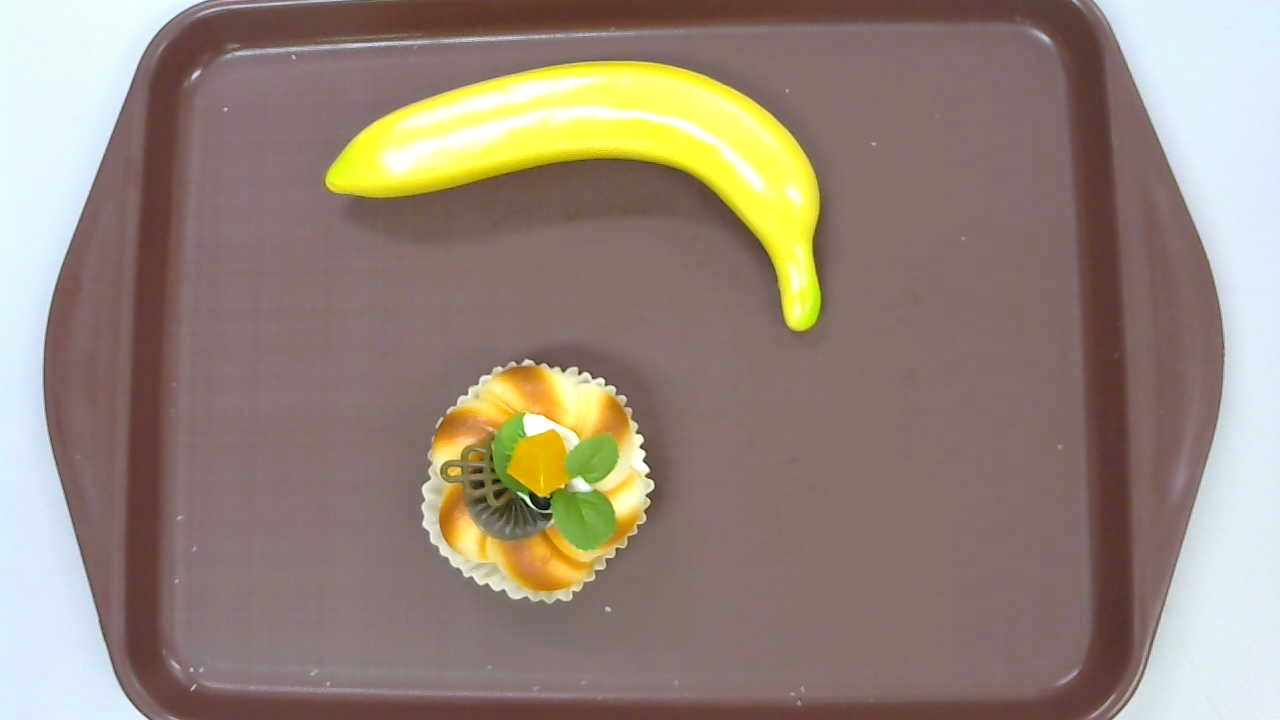banana: (325, 61, 822, 333)
fruit tart: (420, 359, 654, 605)
